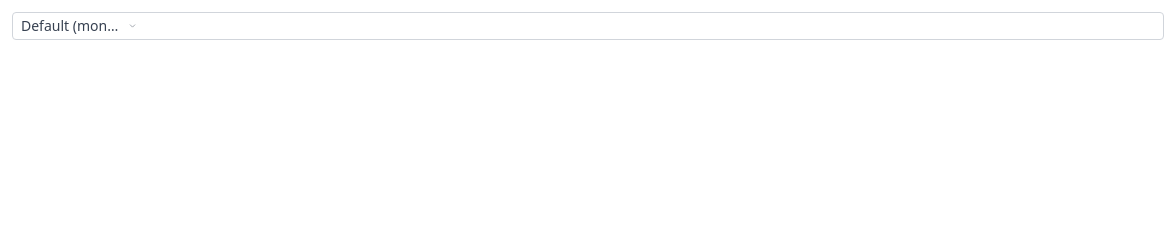
Scenario: FontFamilyInput › filters the list with the search field
Click the button with aria-label "Font Family".
click(79, 26)  # box [13,13,145,39]
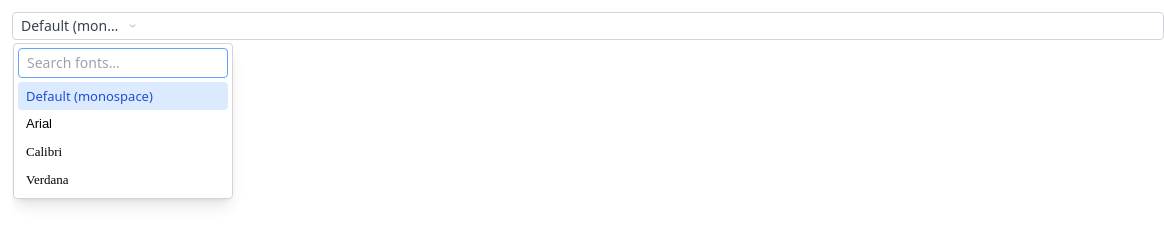
Expected: the option "Arial" is shown, [18,110,228,138]
Type "ver" into the field named "Search font families".
click(123, 63); type("ver")  # box [18,48,228,78]
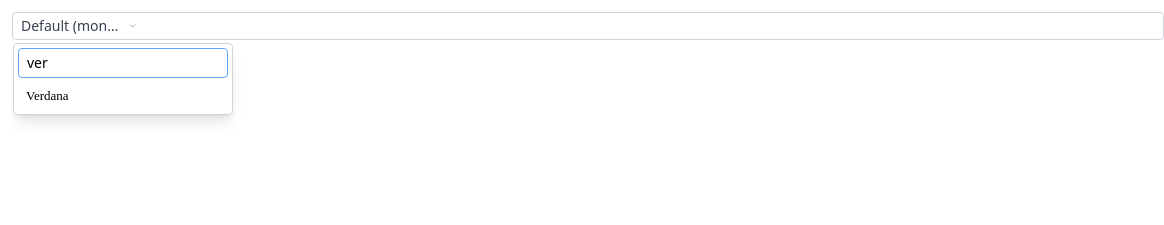
Expected: the option "Verdana" is shown, [18,82,228,110]
Expected: the option "Arial" is gone
